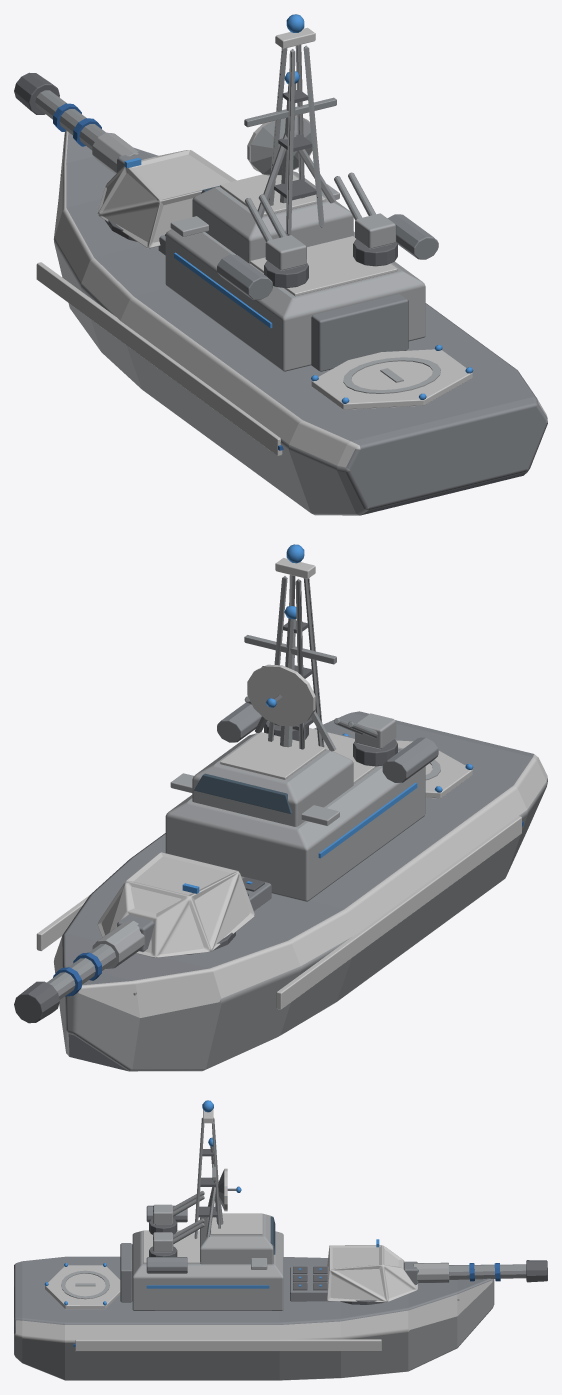
Rendered from lattice_cruiser.glb.
3 views of the same model, one above another, from view 1: azimuth 30°, elevation 25°; view 2: azimuth 150°, elevation 25°; view 3: azimuth 270°, elevation 25° (orthographic). The views are drawn at different scales.
Visible parts, largest first — view 1: Body, Turret; view 2: Body, Turret; view 3: Body, Turret.
Boxes of the visible parts, x1,y1,x2,y2 form: Body: (36, 14, 547, 515); Turret: (14, 72, 236, 248); Body: (36, 544, 547, 1071); Turret: (14, 852, 254, 1023); Body: (14, 1100, 494, 1380); Turret: (327, 1239, 547, 1304).
Size of the model in its own units: 0.88 by 1.35 by 2.61.
